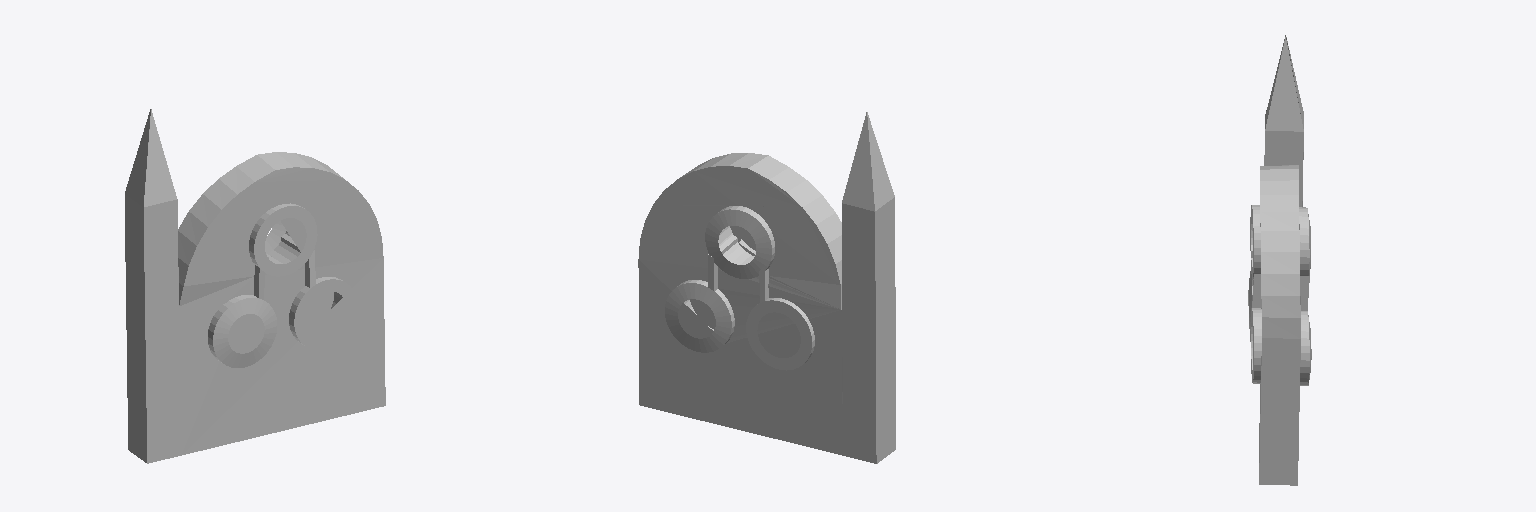
File: WALL1.obj
The picture shows the model from 3 angles: view 1: azimuth 30°, elevation 25°; view 2: azimuth 150°, elevation 25°; view 3: azimuth 270°, elevation 25°; orthographic projection.
Parts seen in each view (by area): view 1: Cube.001_Cube.000; view 2: Cube.001_Cube.000; view 3: Cube.001_Cube.000.
Part boxes in pixels (left/top/right/bottom): Cube.001_Cube.000: left=125, top=109, right=385, bottom=463; Cube.001_Cube.000: left=638, top=112, right=895, bottom=463; Cube.001_Cube.000: left=1248, top=35, right=1311, bottom=485.
Bounding box in the file's own units: 14.2 × 19.54 × 3.24.